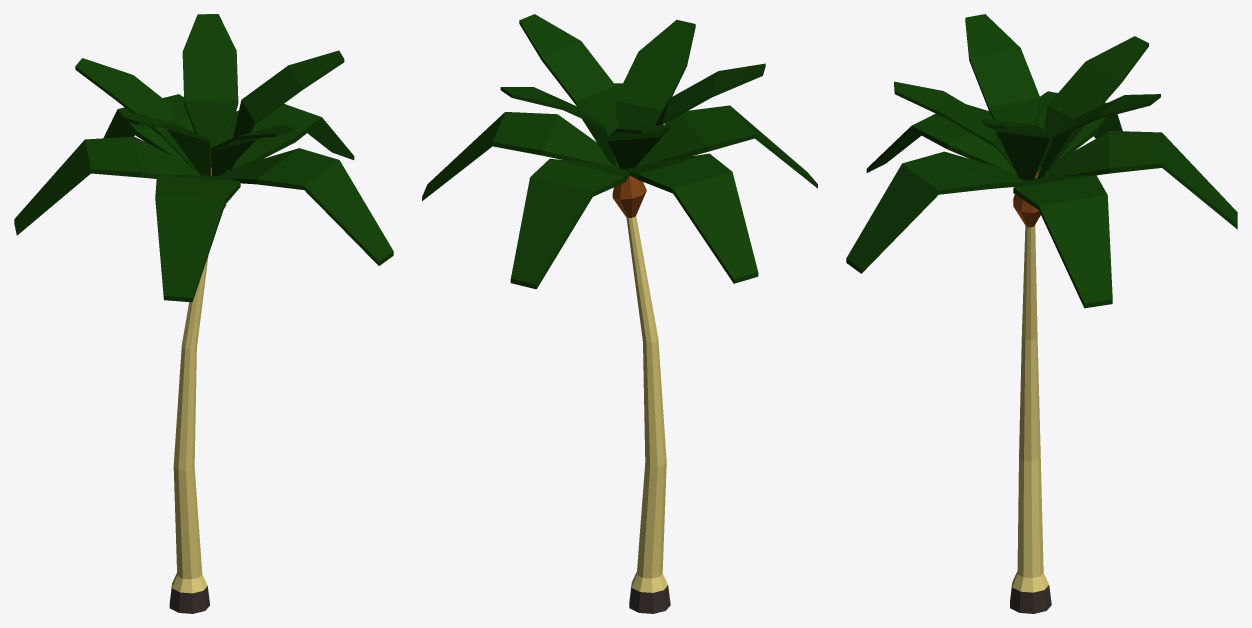
Rendered from Palm_Tree_Summer.fbx.
The picture shows the model from 3 angles, left to right: view 1: azimuth 30°, elevation 25°; view 2: azimuth 150°, elevation 25°; view 3: azimuth 270°, elevation 25°; orthographic projection. The views are drawn at different scales.
Parts seen in each view (by area): view 1: Palm_Tree_Summer; view 2: Palm_Tree_Summer; view 3: Palm_Tree_Summer.
Part boxes in pixels (x1,y1,x2,y2): Palm_Tree_Summer: (14, 14, 393, 613); Palm_Tree_Summer: (422, 14, 817, 613); Palm_Tree_Summer: (846, 14, 1237, 613).
Bounding box in the file's own units: 359 × 549 × 355.
